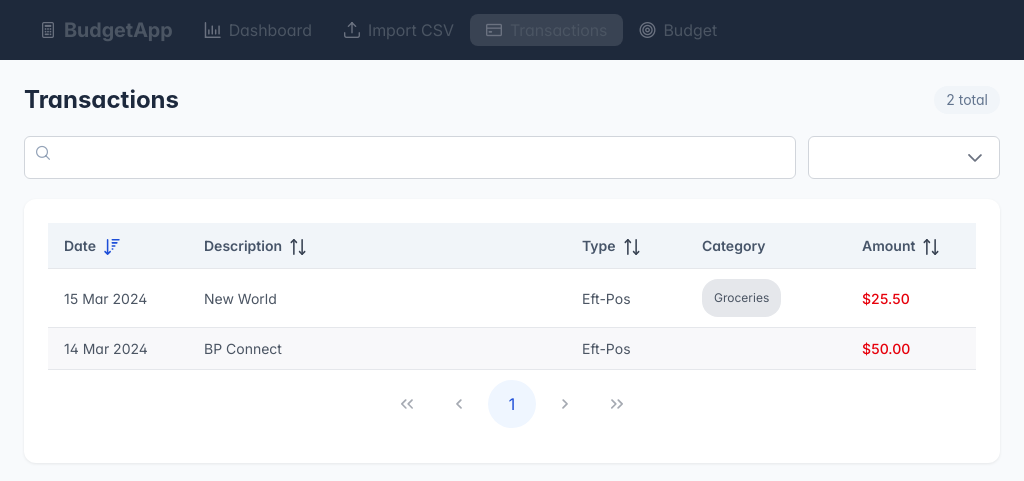
Test: Transactions Page › typing in search debounces before firing API
Check: the text "New World" is shown, box [188,268,566,328]
Type "BP" into the field at (410, 158), box [24,136,796,179]
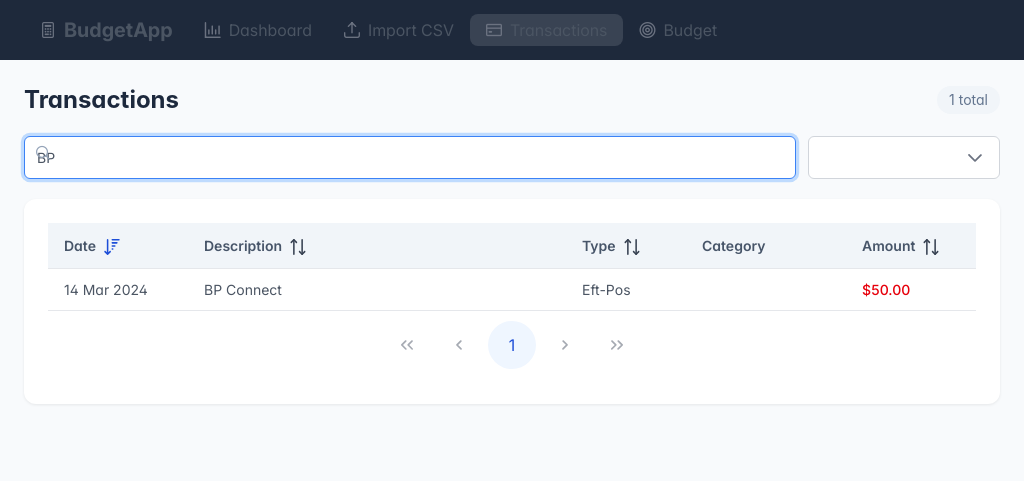
Check: the text "BP Connect" is shown, box [188,268,566,310]
